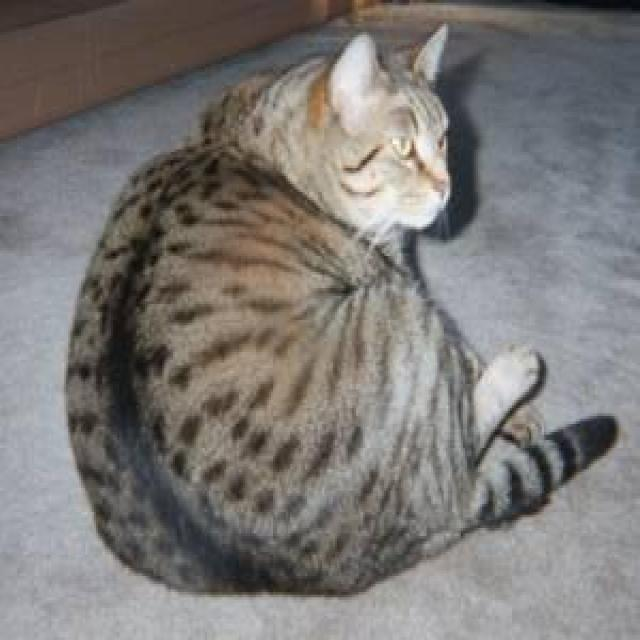cat: (66, 18, 610, 594)
